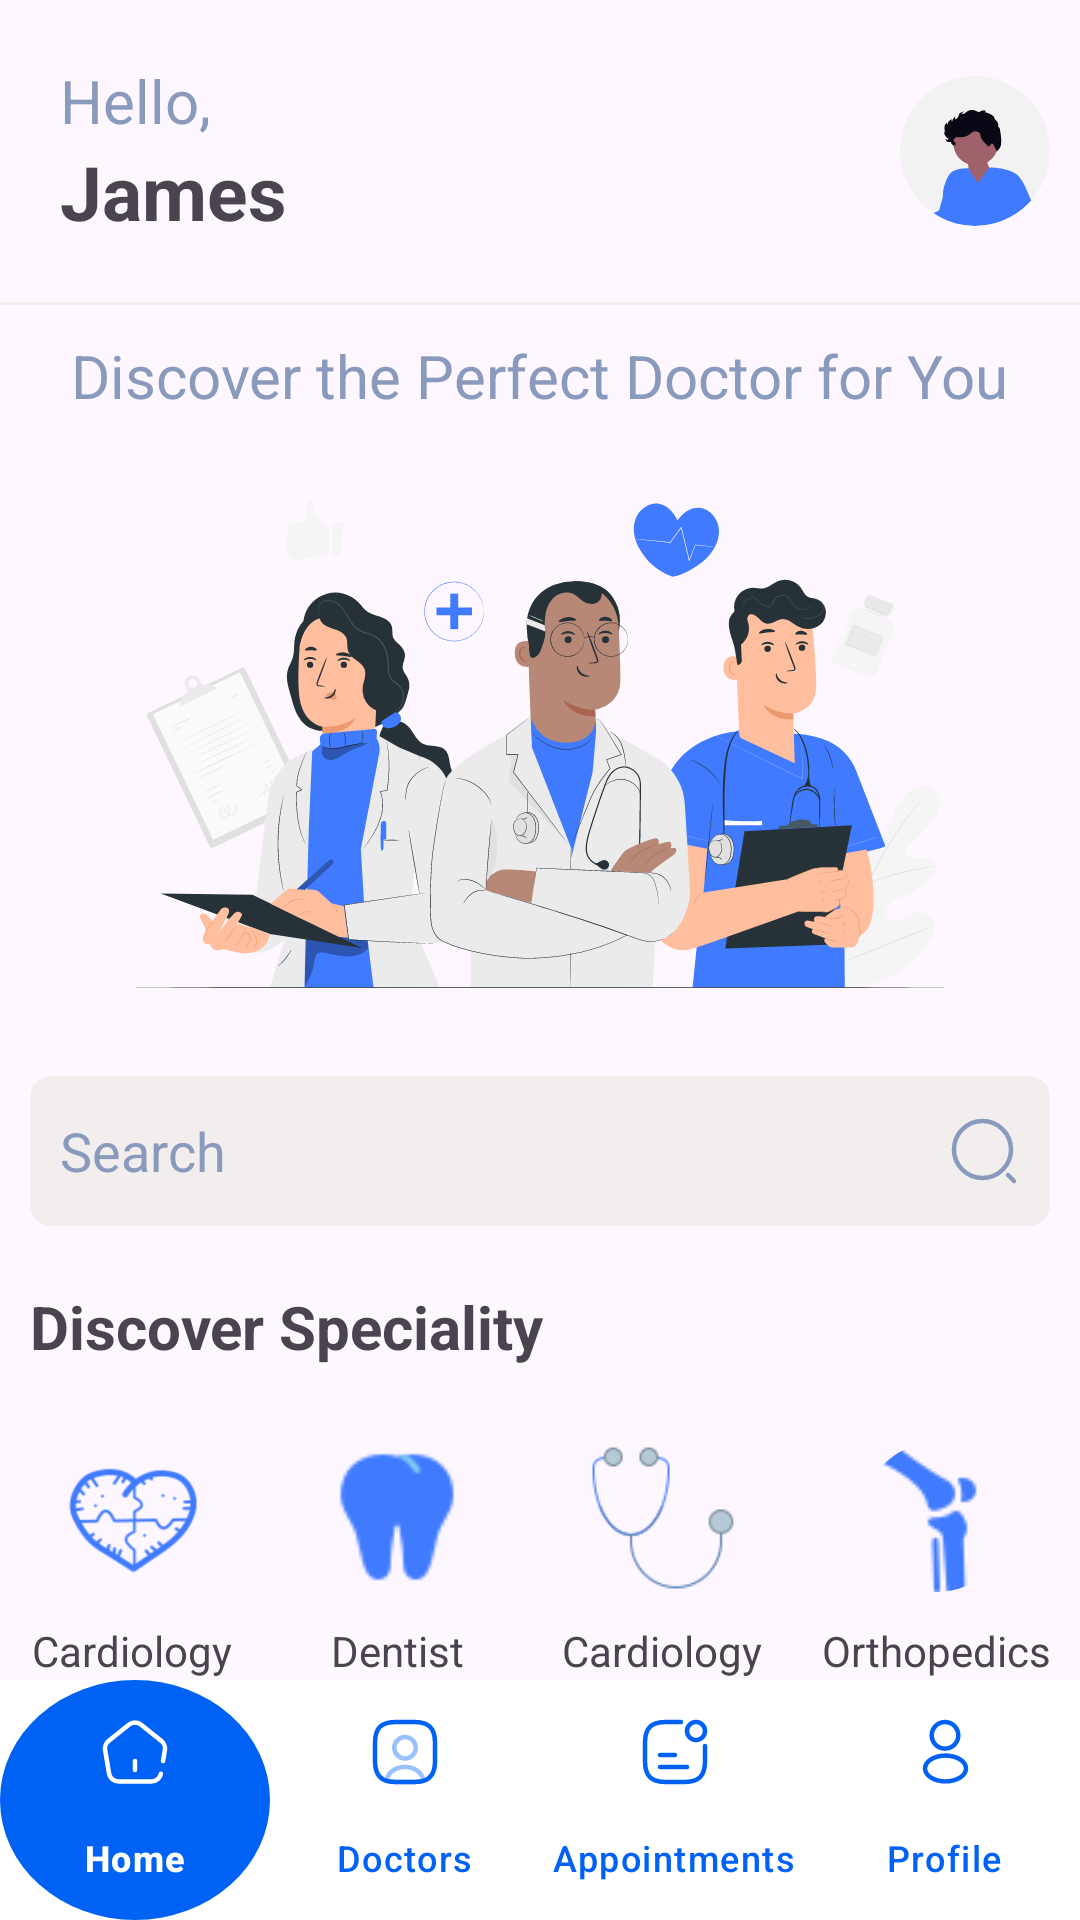

Icons on this 1080×1920 Android screen, each with its box as bbox(x1, y1, x2, y2):
bones: bbox(883, 1450, 977, 1592)
heart: bbox(69, 1468, 197, 1573)
stethoscope: bbox(592, 1447, 734, 1589)
teeth: bbox(340, 1453, 454, 1581)
